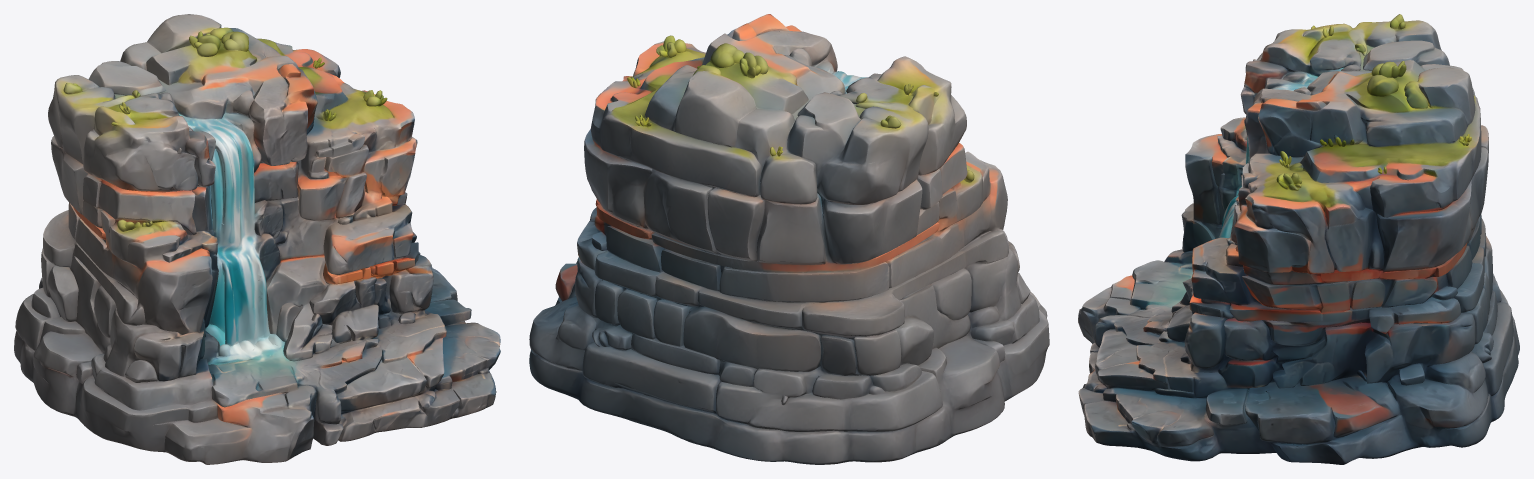
Rendered from cliff-cartoon-source.glb.
3 views of the same model, side by side, from view 1: azimuth 30°, elevation 25°; view 2: azimuth 150°, elevation 25°; view 3: azimuth 270°, elevation 25° (orthographic). The views are drawn at different scales.
Visible parts, largest first — view 1: model; view 2: model; view 3: model.
Part boxes in pixels (x1=…): model: x1=14, y1=14, x2=500, y2=464; model: x1=529, y1=14, x2=1049, y2=464; model: x1=1078, y1=14, x2=1519, y2=464.
Size of the model in its own units: 1.9 by 1.43 by 1.82.
Materials: 1 (1 with a texture image).
